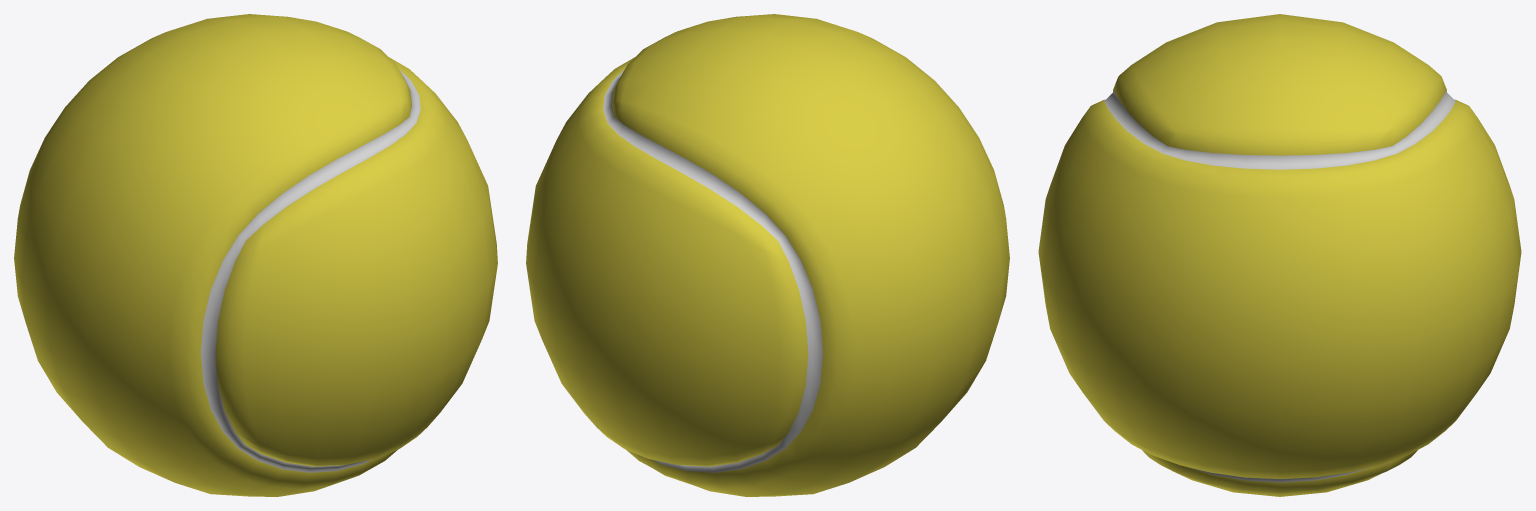
Rendered from tennisBall.fbx.
3 renders of one model, left to right at view 1: azimuth 30°, elevation 25°; view 2: azimuth 150°, elevation 25°; view 3: azimuth 270°, elevation 25°, orthographic.
Visible parts, largest first — view 1: ballTennis; view 2: ballTennis; view 3: ballTennis.
Boxes of the visible parts, left/top/right/bottom form: ballTennis: left=14, top=14, right=497, bottom=496; ballTennis: left=526, top=14, right=1009, bottom=496; ballTennis: left=1038, top=14, right=1521, bottom=496.
Bounding box in the file's own units: 1 × 1 × 1.
1 material, 1 textured.
